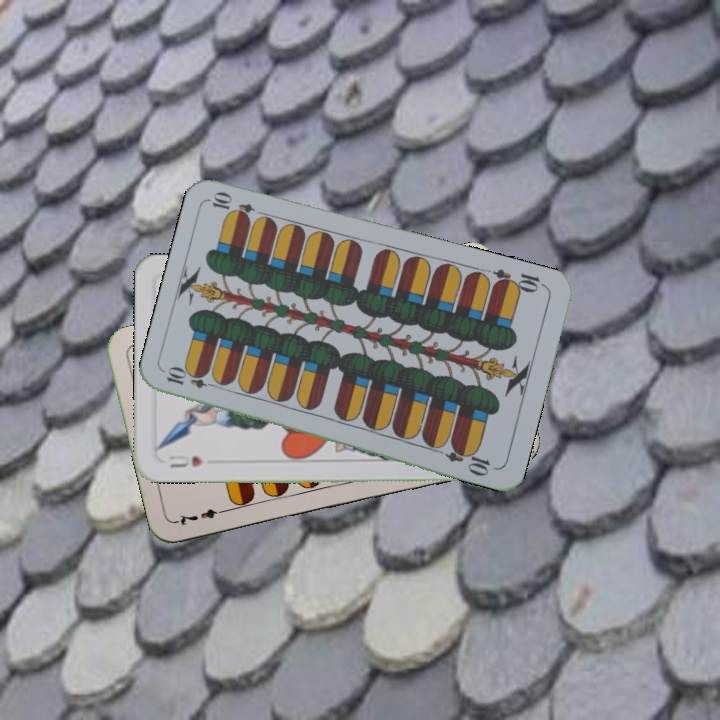E10: (489, 265, 548, 295), (162, 365, 221, 392)
E7: (173, 504, 231, 528)
HU: (165, 451, 206, 470)
